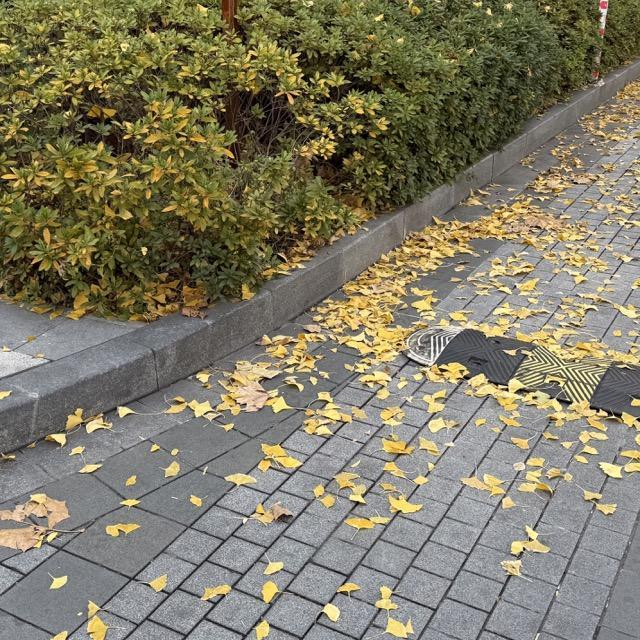curb: (0, 61, 639, 451)
